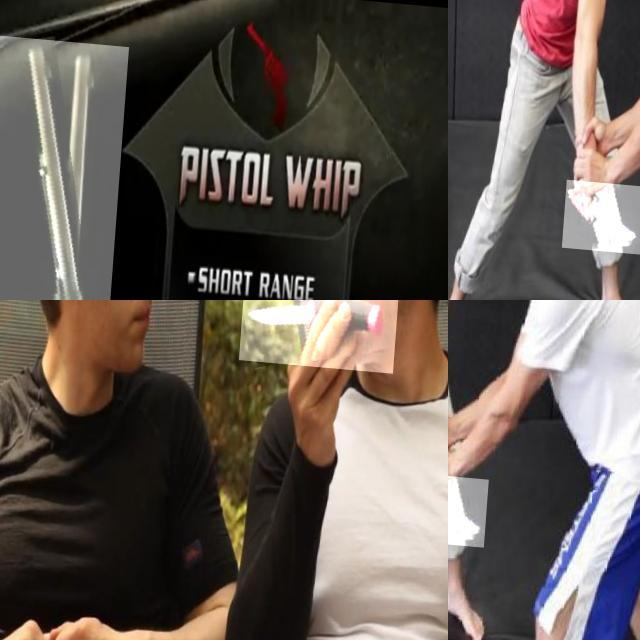-: (243, 300, 402, 365), (568, 174, 640, 248), (448, 467, 494, 541)
gun-knife-thesis - v11 Yolov5 augmented: (0, 30, 130, 300)
